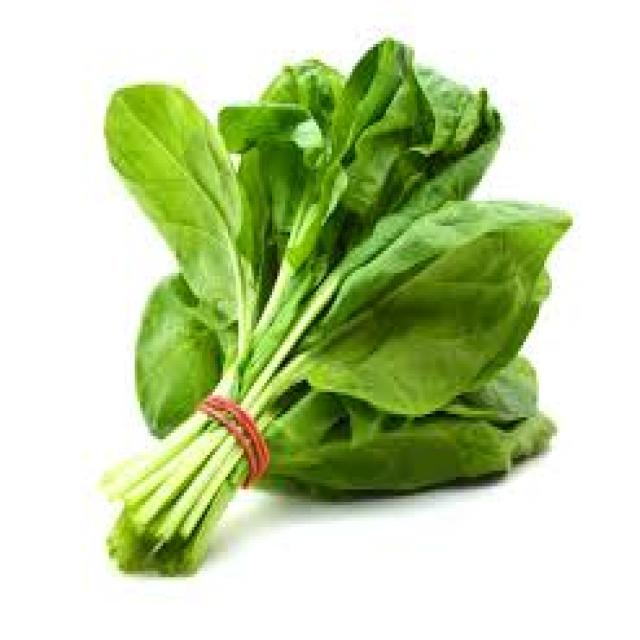spinach: (78, 34, 576, 576)
